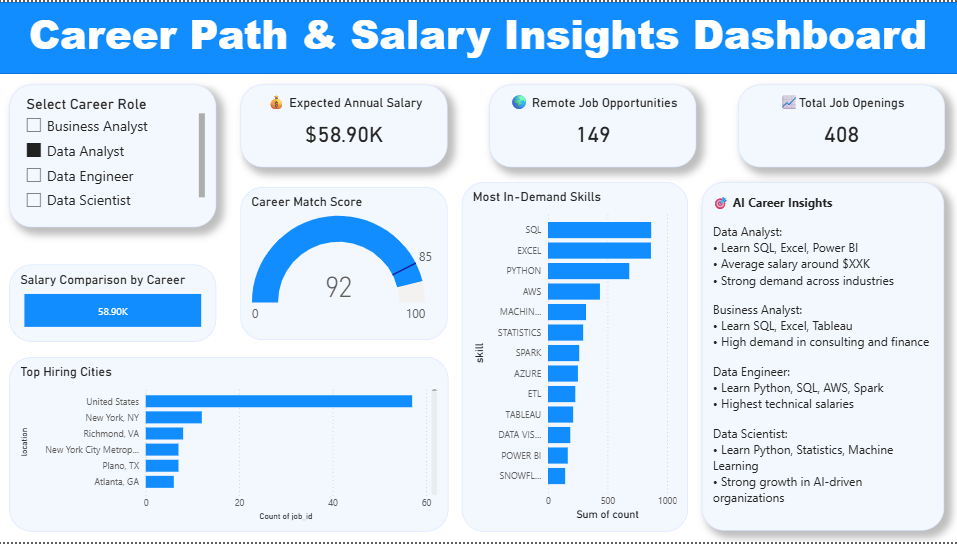

This screenshot's page, from the dashboard's own definition file:
{"tool":"powerbi","page":{"name":"Career Recommendation Engine","canvas":[1280,720],"ordinal":3},"visuals":[{"type":"shape","box":[0,0,1280,96],"z":0},{"type":"textbox","box":[0,0,1280,96.7],"z":1000},{"type":"card","title":"💰 Expected Annual Salary","fields":{"Values":["Avg(cleaned_jobs_with_skills.avg_salary)"]},"box":[324,110,276,110],"z":2000},{"type":"textbox","box":[938.3,240,323.3,465],"z":3000},{"type":"card","title":"🌍 Remote Job Opportunities","fields":{"Values":["cleaned_jobs_with_skills.Remote Jobs"]},"box":[654.9,110,276.2,110],"z":4000},{"type":"clusteredBarChart","title":"Most In-Demand Skills","fields":{"Category":["skill_demand.skill"],"Y":["Sum(skill_demand.count)"]},"box":[618.3,240,301.7,466.7],"z":6000},{"type":"card","title":"📈Total Job Openings","fields":{"Values":["CountNonNull(cleaned_jobs_with_skills.job_id)"]},"box":[986,110,276,110],"z":7000},{"type":"clusteredBarChart","title":"Top Hiring Cities","fields":{"Y":["CountNonNull(cleaned_jobs_with_skills.job_id)"],"Category":["cleaned_jobs_with_skills.location"]},"box":[15.7,472.9,585.7,232.9],"z":8000},{"type":"funnel","title":"Salary Comparison by Career","fields":{"Y":["Avg(cleaned_jobs_with_skills.avg_salary)"]},"box":[15.7,350,275.7,102.9],"z":9000},{"type":"gauge","title":"Career Match Score","fields":{"Y":["career_scores.Career Match Score"],"MinValue":["career_scores.Gauge Min"],"MaxValue":["career_scores.Gauge Max"],"TargetValue":["career_scores.Gauge Target"]},"box":[322.9,247.1,275.7,204.3],"z":10000},{"type":"slicer","title":"Select Career Role","fields":{"Values":["cleaned_jobs_with_skills.Career Role"]},"box":[15.7,110,275.7,190],"z":10001}]}

Visuals, with their boxes in screenshot pixels (x1, y1, x2, y2), scaled from the page's 1280x720 canvas onto the 957x544 screenshot:
shape: 0:0:956:73
textbox: 0:0:956:73
"💰 Expected Annual Salary" card: 242:83:449:166
textbox: 702:181:943:533
"🌍 Remote Job Opportunities" card: 490:83:696:166
"Most In-Demand Skills" clusteredBarChart: 462:181:688:534
"📈Total Job Openings" card: 737:83:944:166
"Top Hiring Cities" clusteredBarChart: 12:357:450:533
"Salary Comparison by Career" funnel: 12:264:218:342
"Career Match Score" gauge: 241:187:448:341
"Select Career Role" slicer: 12:83:218:227
